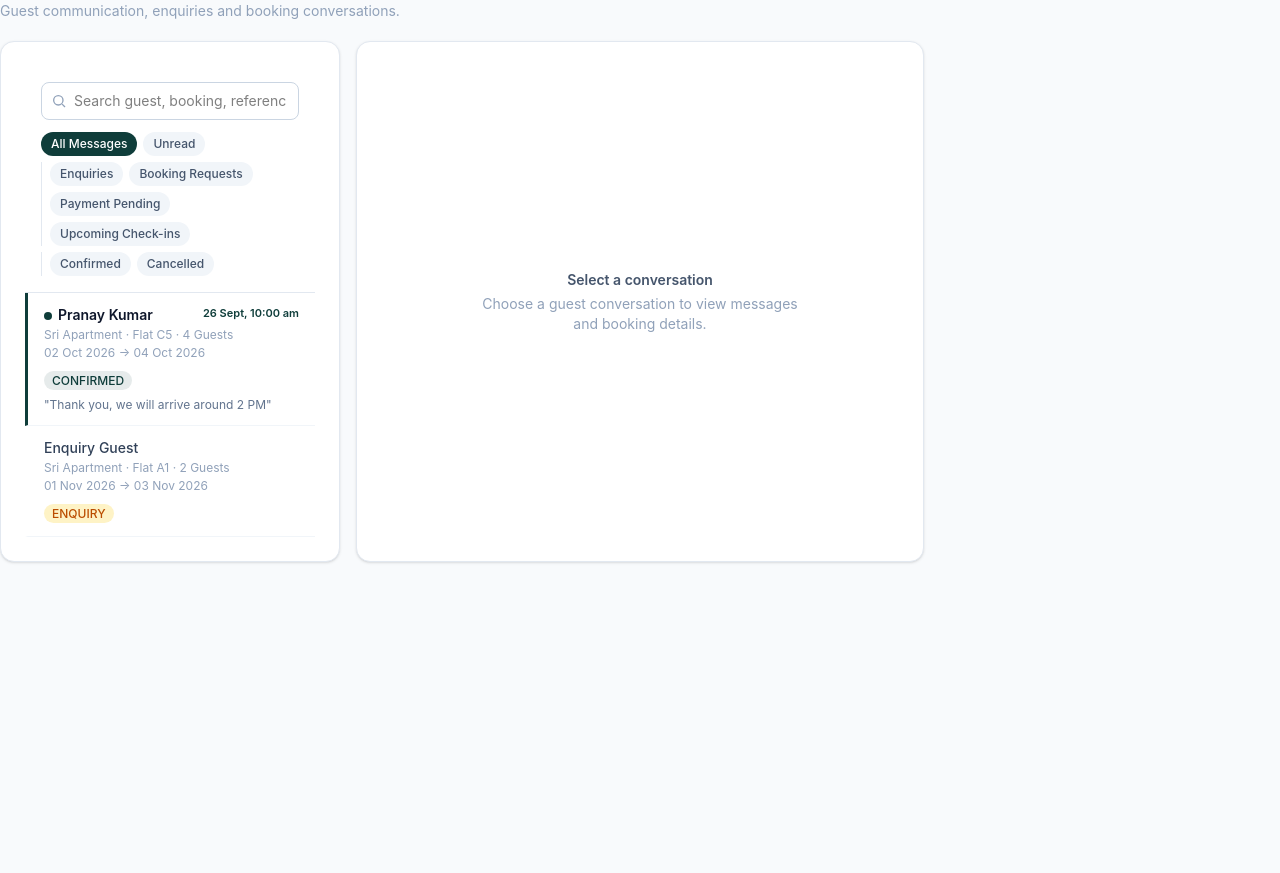
Test case: MessagesPage › auto-loads the confirmation preview with the real guest count as soon as the booking is selected — no button click needed
The image size is (1280, 873).
Click the text "Pranay Kumar".
click(98, 315)  # box x1=44 y1=305 x2=153 y2=325
(page scrolled)
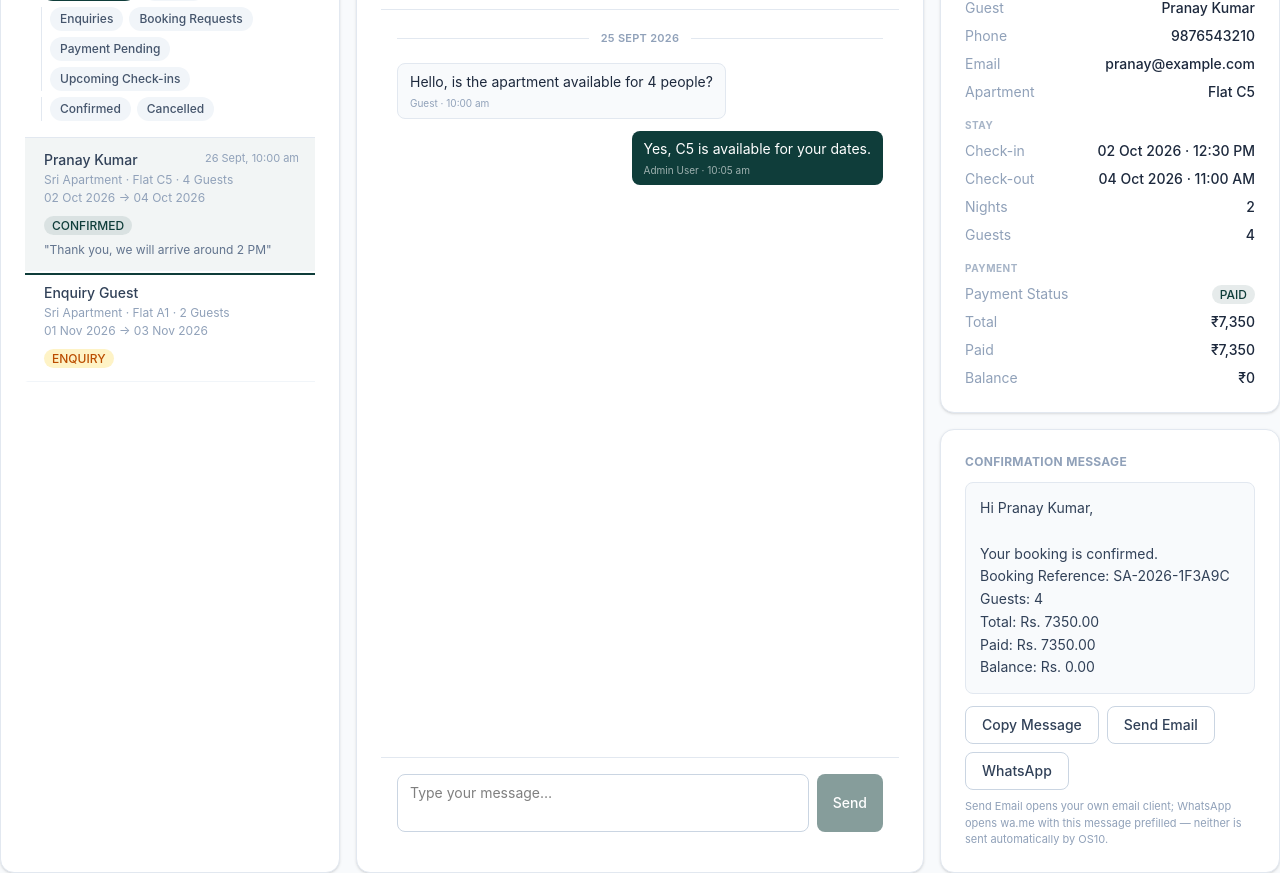
Result: the text "Booking Reference: SA-2026-1F3A9C" is shown at x1=980 y1=499 x2=1230 y2=675
Click the button "Copy Message".
click(1032, 725)  # box x1=965 y1=706 x2=1099 y2=744
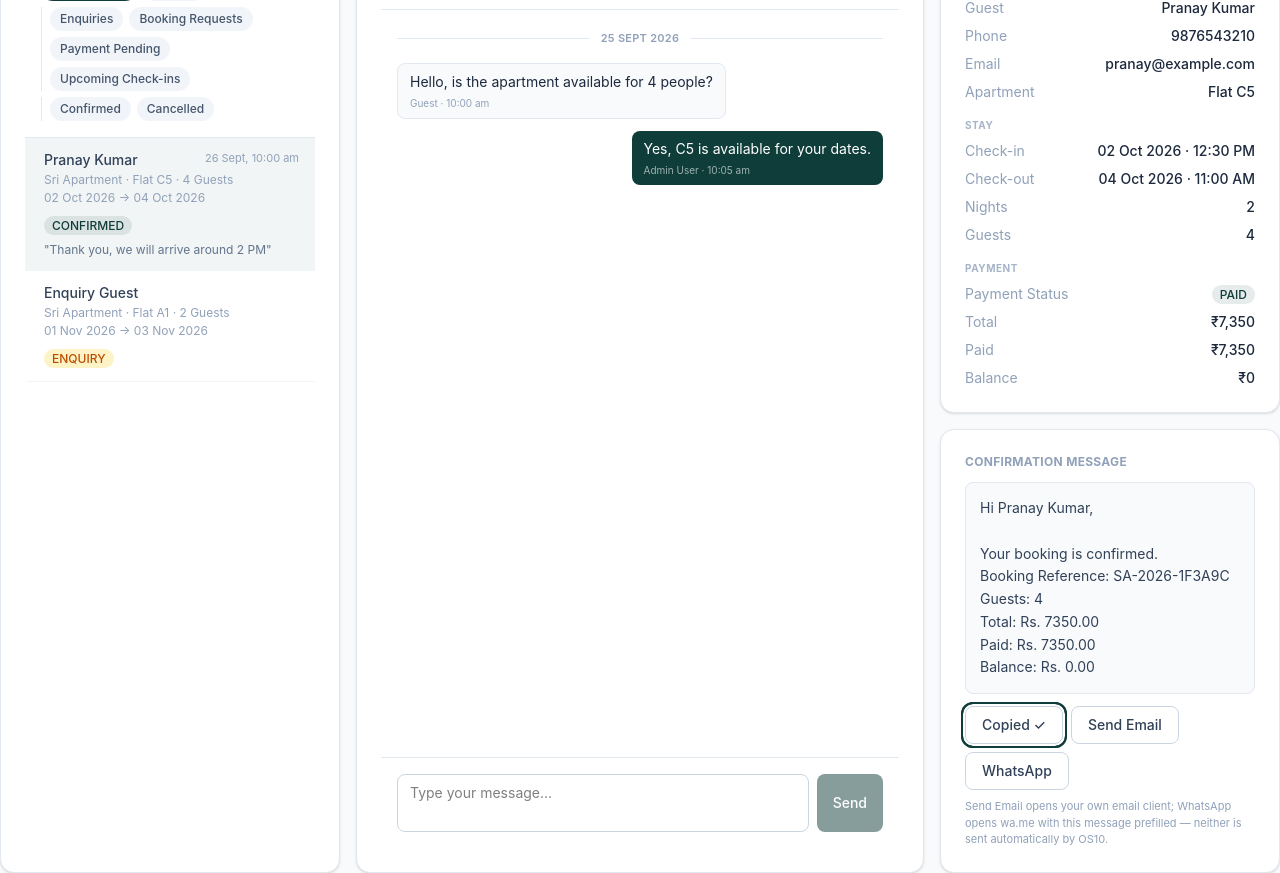
Result: the button "Copied ✓" is shown at x1=965 y1=706 x2=1063 y2=744
